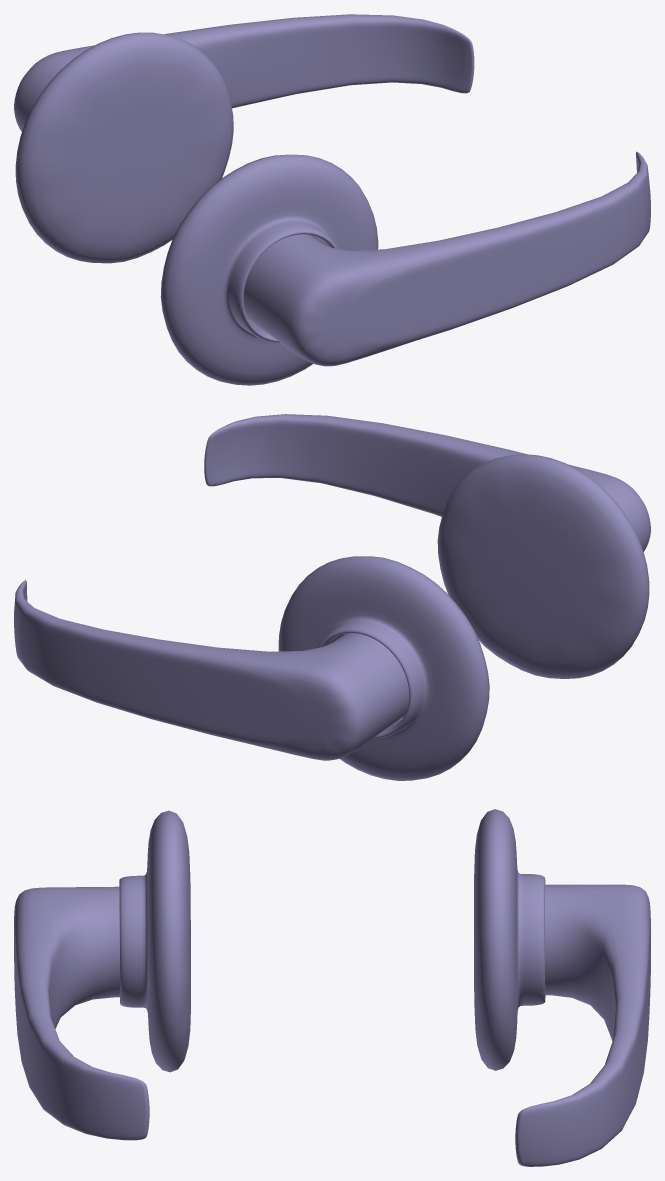
Rendered from knob.obj.
3 renders of one model, top to bottom at view 1: azimuth 30°, elevation 25°; view 2: azimuth 150°, elevation 25°; view 3: azimuth 270°, elevation 25°, orthographic. The views are drawn at different scales.
Parts seen in each view (by area): view 1: Handle_Back.004; view 2: Handle_Back.004; view 3: Handle_Back.004.
Part boxes in pixels (box(x1,y1,x2,y2)): Handle_Back.004: box(14, 14, 650, 385); Handle_Back.004: box(14, 414, 650, 780); Handle_Back.004: box(14, 809, 650, 1166).
Size of the model in its own units: 15.95 by 7.39 by 17.49.
